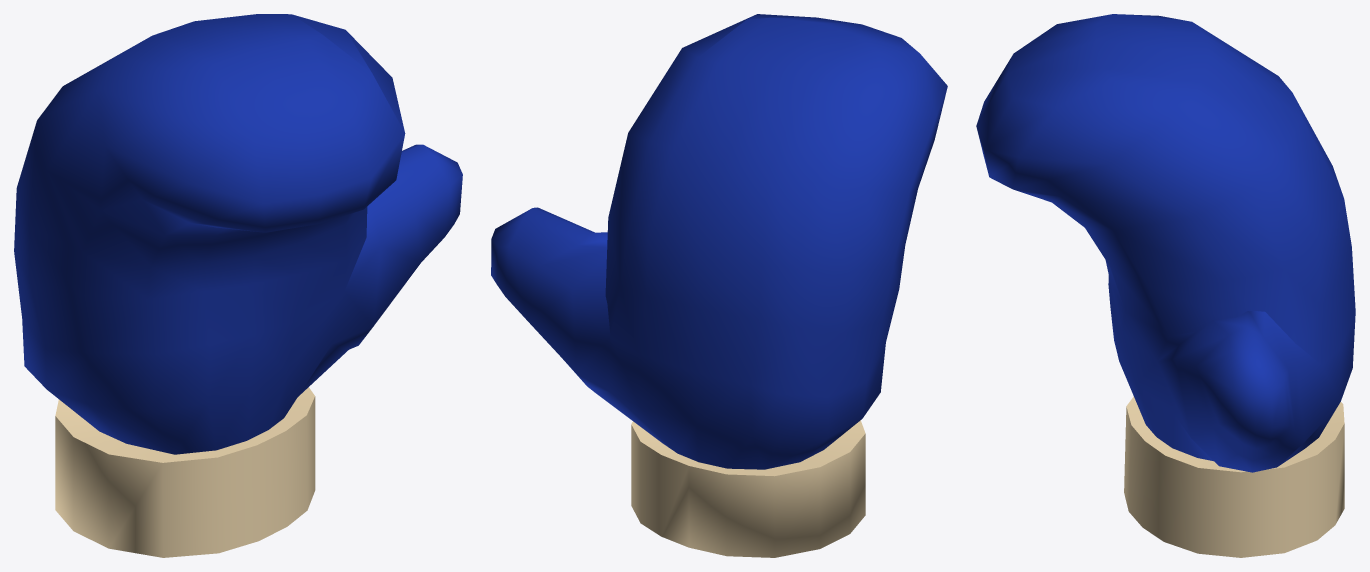
Rendered from Boxer_1.fbx.
The picture shows the model from 3 angles, left to right: view 1: azimuth 30°, elevation 25°; view 2: azimuth 150°, elevation 25°; view 3: azimuth 270°, elevation 25°; orthographic projection. The views are drawn at different scales.
Visible parts, largest first — view 1: Boxer_1; view 2: Boxer_1; view 3: Boxer_1.
Boxes of the visible parts, x1=… form: Boxer_1: x1=14, y1=14, x2=462, y2=557; Boxer_1: x1=491, y1=14, x2=947, y2=557; Boxer_1: x1=976, y1=14, x2=1355, y2=557.
Size of the model in its own units: 0.2451 by 0.2681 by 0.1993.
